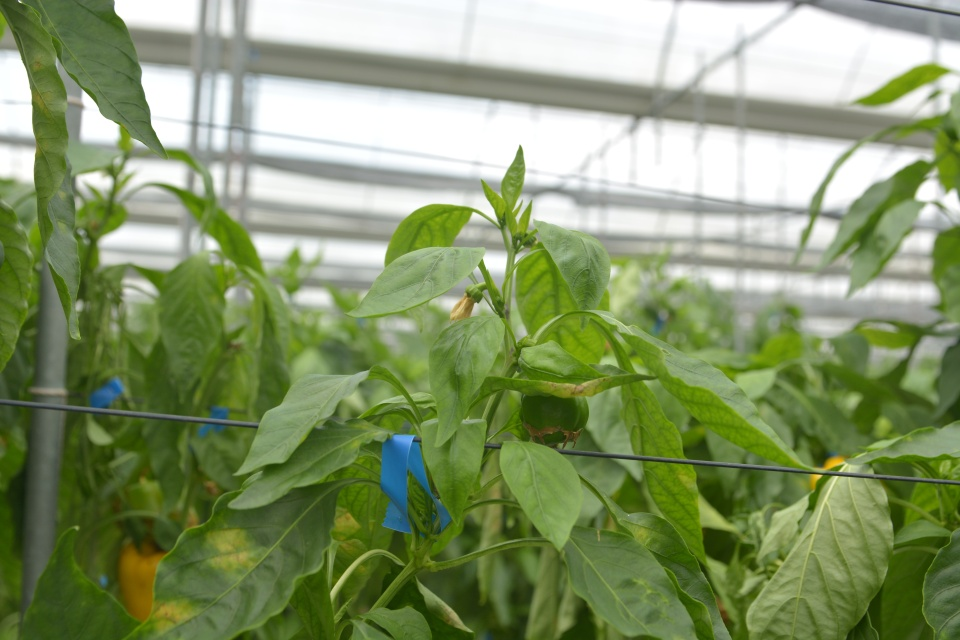fruit: (117, 504, 201, 621)
immature: (518, 390, 590, 447)
